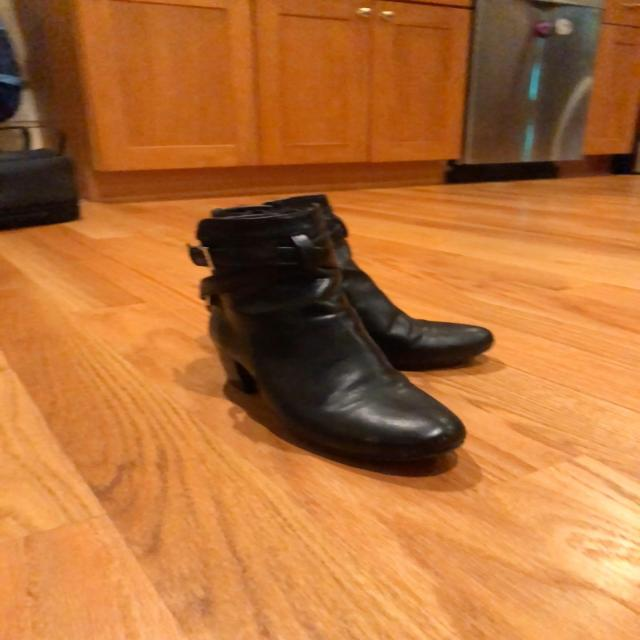shoe: (241, 286, 465, 456), (345, 272, 497, 371)
